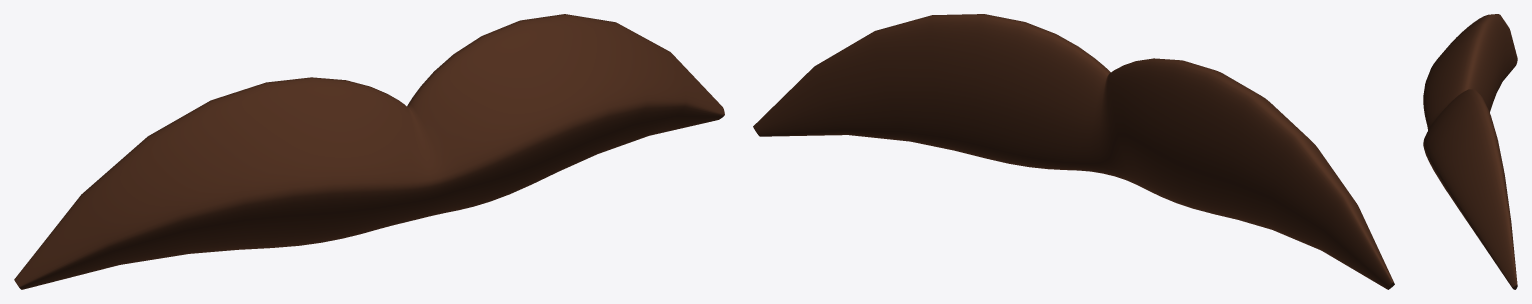
The picture shows the model from 3 angles, left to right: view 1: azimuth 30°, elevation 25°; view 2: azimuth 150°, elevation 25°; view 3: azimuth 270°, elevation 25°; orthographic projection. The views are drawn at different scales.
Parts seen in each view (by area): view 1: beardMustacheDad; view 2: beardMustacheDad; view 3: beardMustacheDad.
Boxes of the visible parts, x1,y1,x2,y2 form: beardMustacheDad: (14,14,724,289); beardMustacheDad: (753,14,1394,289); beardMustacheDad: (1423,14,1517,289).
Bounding box in the file's own units: 0.2069 × 0.0476 × 0.0362.
1 material, 1 textured.
